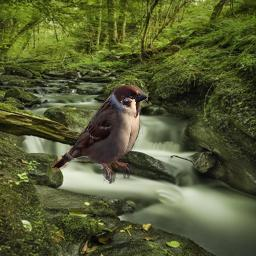Sparrow: (52, 84, 148, 185)
